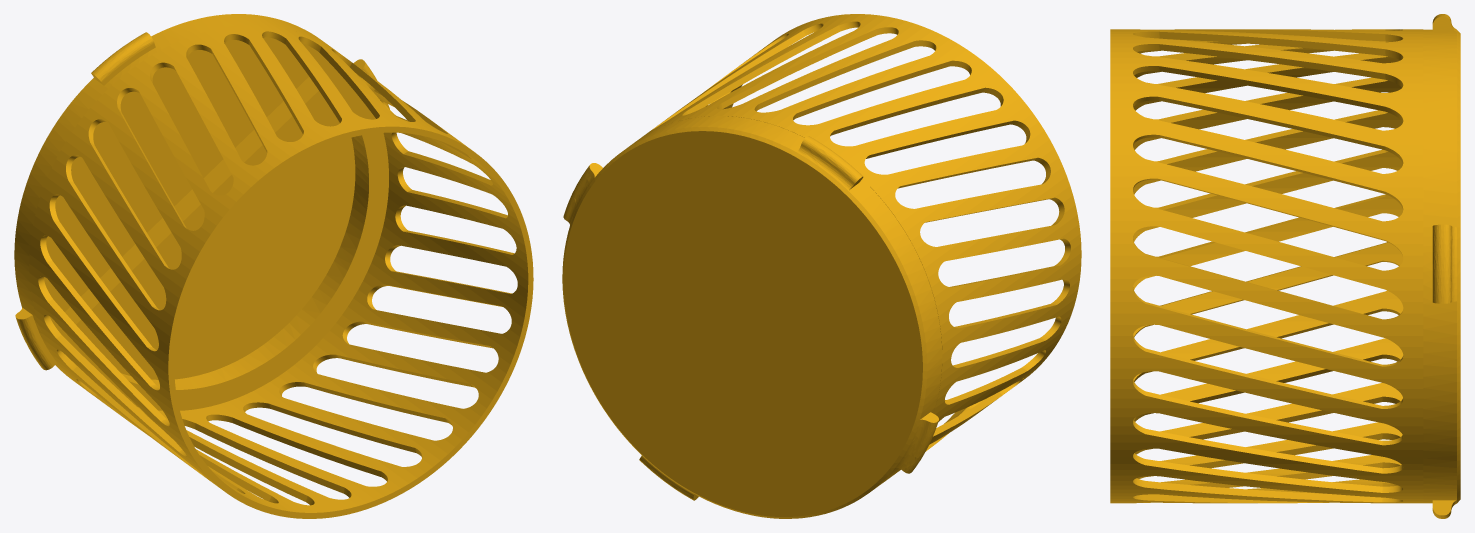
Rendered from tinker.obj.
3 renders of one model, left to right at view 1: azimuth 30°, elevation 25°; view 2: azimuth 150°, elevation 25°; view 3: azimuth 270°, elevation 25°, orthographic. The views are drawn at different scales.
Parts seen in each view (by area): view 1: obj_0; view 2: obj_0; view 3: obj_0.
Part boxes in pixels (<box>): obj_0: <box>14,14,533,518</box>; obj_0: <box>562,14,1081,518</box>; obj_0: <box>1110,14,1460,518</box>.
Size of the model in its own units: 156 by 156 by 113.
